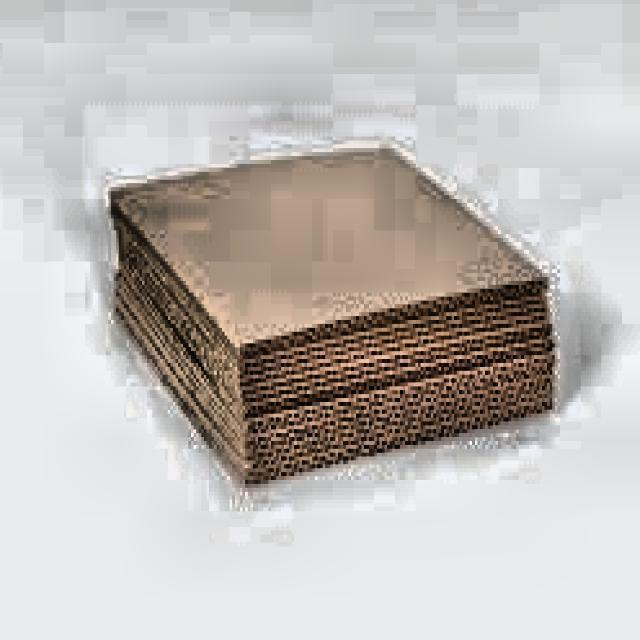cardboard: (108, 140, 560, 484)
